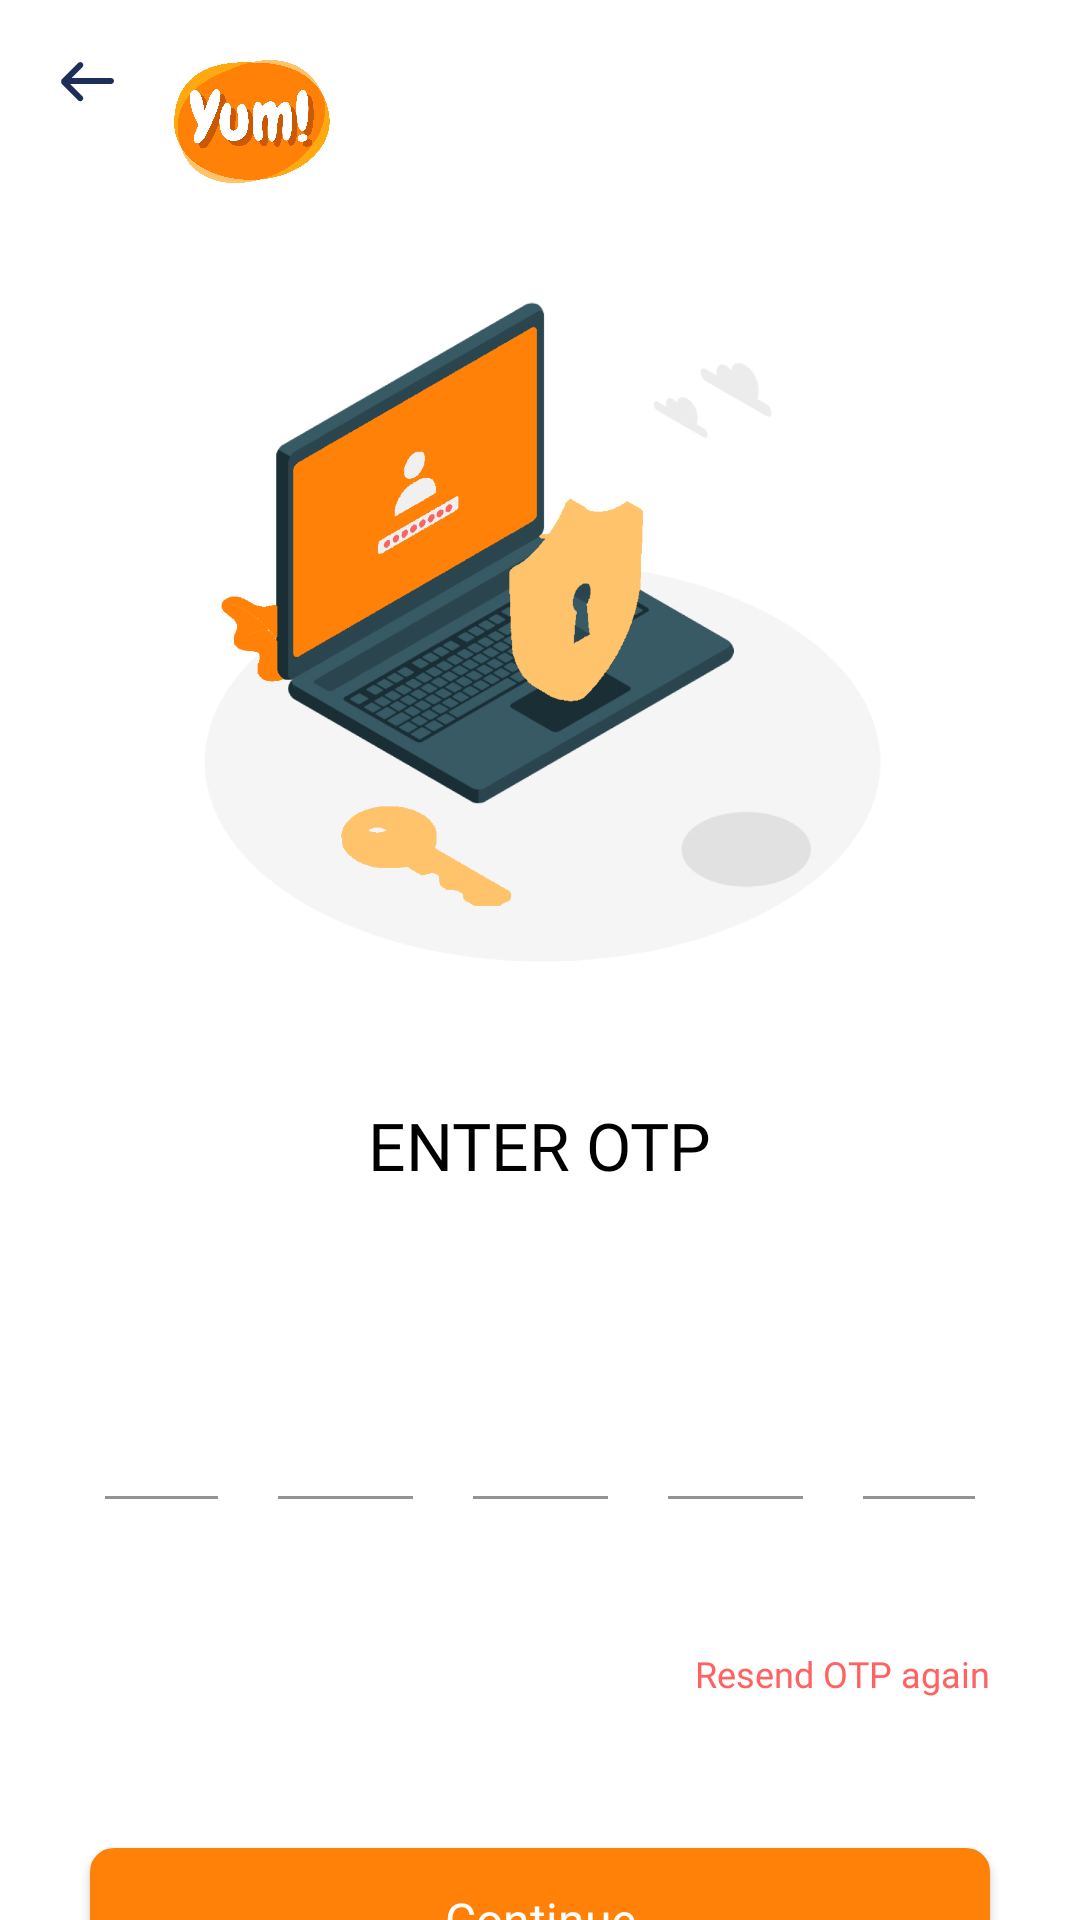

Named icons in this screenshot (1080x1920) and their bounding boxes, {"left": x1, "top": y1, "right": x2, "bottom": y2}:
leff arrow: {"left": 61, "top": 62, "right": 114, "bottom": 102}
